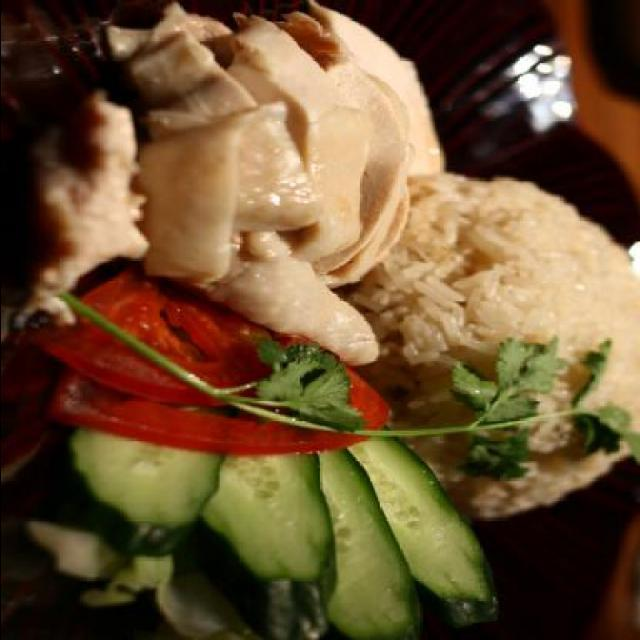Cucumber: (74, 418, 500, 640)
